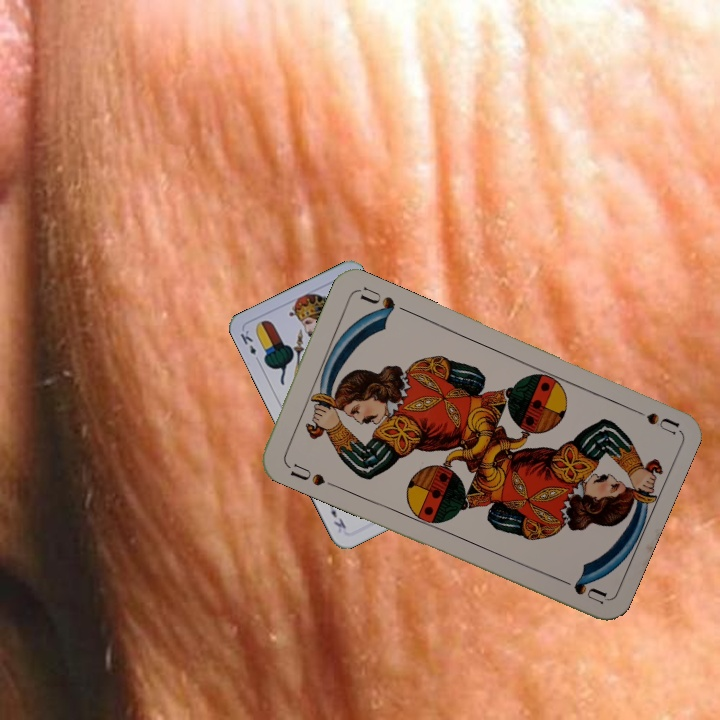EK: (236, 326, 263, 366)
SU: (622, 401, 680, 438), (281, 458, 328, 489)
